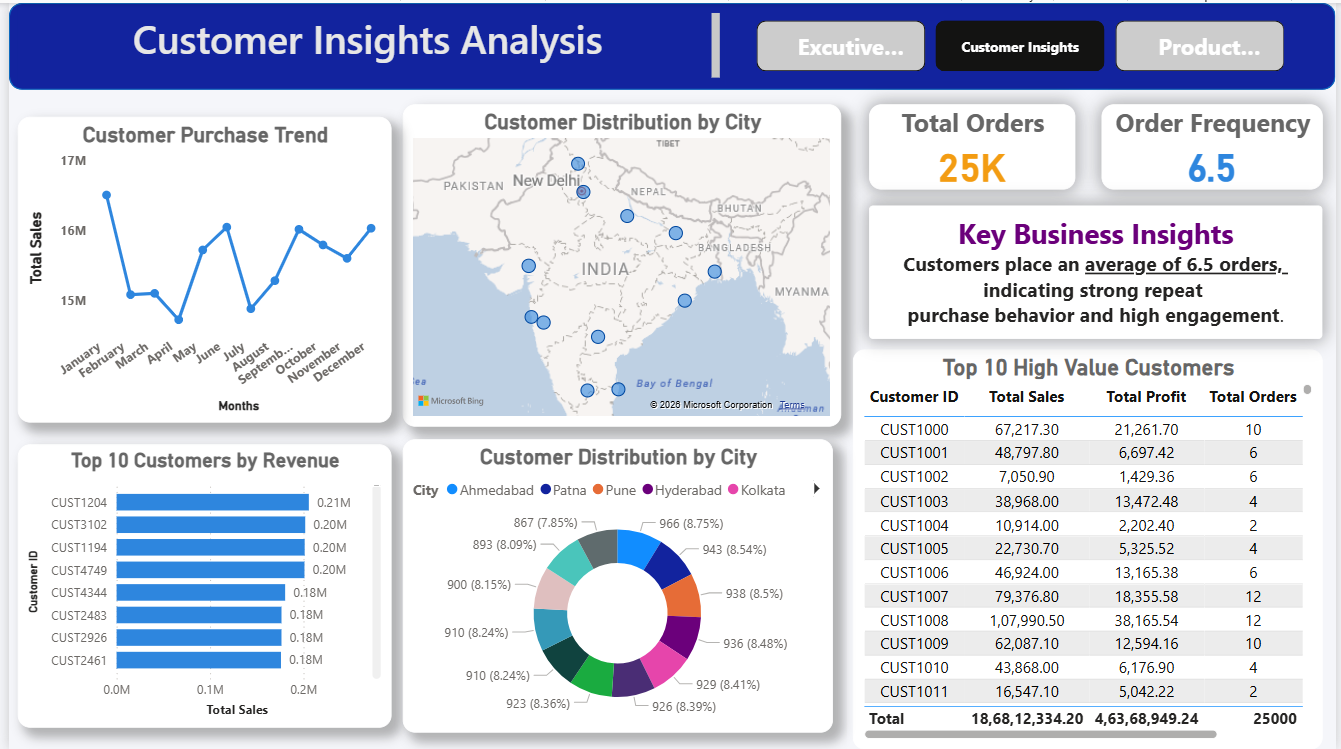

This screenshot's page, from the dashboard's own definition file:
{"tool":"powerbi","page":{"name":" Customer Insights","canvas":[1280,720],"ordinal":1},"visuals":[{"type":"map","title":"Customer Distribution by City","fields":{"Category":["public retail.city"],"Size":["public retail.Total Customers"]},"box":[380,97.7,423.5,311.3],"z":0},{"type":"barChart","title":"Top 10 Customers by Revenue","fields":{"Category":["public retail.customerid"],"Y":["public retail.Total Sales"]},"box":[8.4,425.9,360.7,273.9],"z":1000},{"type":"lineChart","title":"Customer Purchase Trend","fields":{"Category":["public retail.orderdate.Variation.Date Hierarchy.Month"],"Y":["public retail.Total Sales"]},"box":[8.4,109.8,360.7,295.6],"z":2000},{"type":"shape","box":[0,0,1280.3,83.7],"z":3000},{"type":"textbox","box":[8.4,4.8,682.8,74.8],"z":4000},{"type":"card","title":"Order Frequency ","fields":{"Values":["public retail.Order Frequency"]},"box":[1054.4,97.7,213.5,82],"z":5000},{"type":"card","title":"Total Orders","fields":{"Values":["public retail.Total Orders"]},"box":[830,97.7,199.1,82],"z":6000},{"type":"tableEx","title":"Top 10 High Value Customers","fields":{"Values":["public retail.customerid","public retail.Total Sales","public retail.Total Profit","public retail.Total Orders","public retail.Profit Margin"]},"box":[814.3,334.2,453.6,386.1],"z":7000},{"type":"pageNavigator","box":[721.5,16.9,511.5,49.5],"z":8000},{"type":"donutChart","title":"Customer Distribution by City","fields":{"Category":["public retail.city"],"Y":["public retail.Total Customers"]},"box":[380,421,415,283.5],"z":9000},{"type":"textbox","box":[830,195.4,437.9,129.1],"z":10000}]}

Visuals, with their boxes in screenshot pixels (x1, y1, x2, y2), scaled from the page's 1280x720 canvas onto the 1341x749 screenshot:
"Customer Distribution by City" map: l=398, t=102, r=842, b=425
"Top 10 Customers by Revenue" barChart: l=9, t=443, r=387, b=728
"Customer Purchase Trend" lineChart: l=9, t=114, r=387, b=422
shape: l=0, t=0, r=1340, b=87
textbox: l=9, t=5, r=724, b=83
"Order Frequency " card: l=1105, t=102, r=1328, b=187
"Total Orders" card: l=870, t=102, r=1078, b=187
"Top 10 High Value Customers" tableEx: l=853, t=348, r=1328, b=748
pageNavigator: l=756, t=18, r=1292, b=69
"Customer Distribution by City" donutChart: l=398, t=438, r=833, b=733
textbox: l=870, t=203, r=1328, b=338
